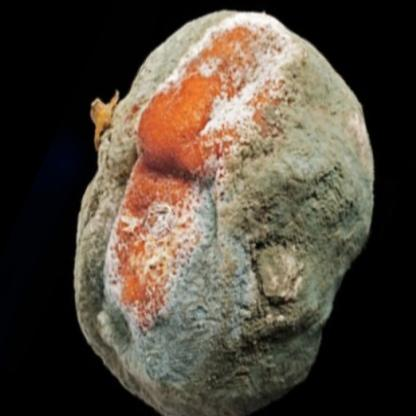rotten: (75, 12, 376, 416)
